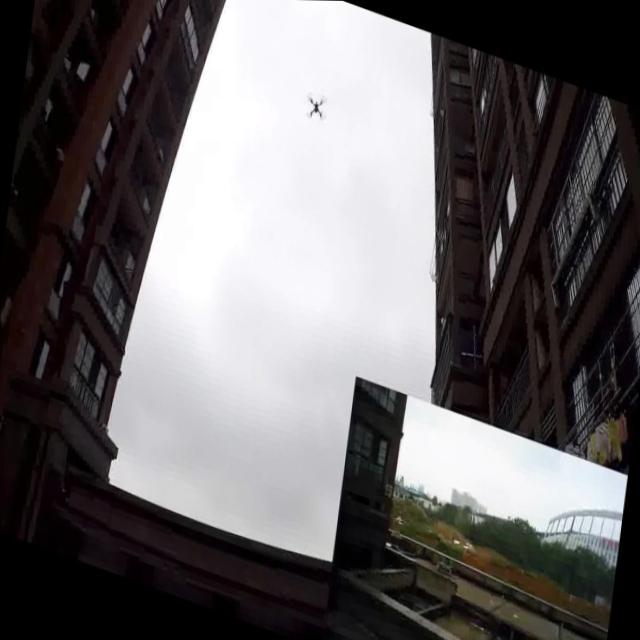drone: (300, 87, 329, 125)
